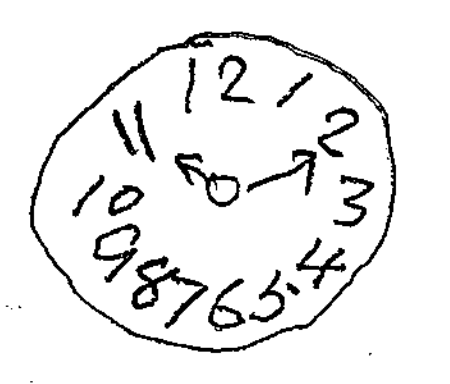1: (273, 71, 313, 111)
10: (71, 174, 146, 219)
11: (111, 99, 155, 162)
12: (182, 55, 256, 118)
2: (317, 101, 361, 159)
3: (332, 173, 377, 227)
4: (296, 235, 348, 290)
5: (248, 270, 301, 322)
6: (207, 276, 246, 331)
7: (163, 272, 209, 331)
8: (129, 255, 180, 311)
9: (91, 220, 142, 284)
contour: (26, 27, 399, 355)
hand: (174, 147, 318, 207)
top_left_arrow: (172, 151, 207, 186)
top_right_arrow: (245, 149, 317, 196)
